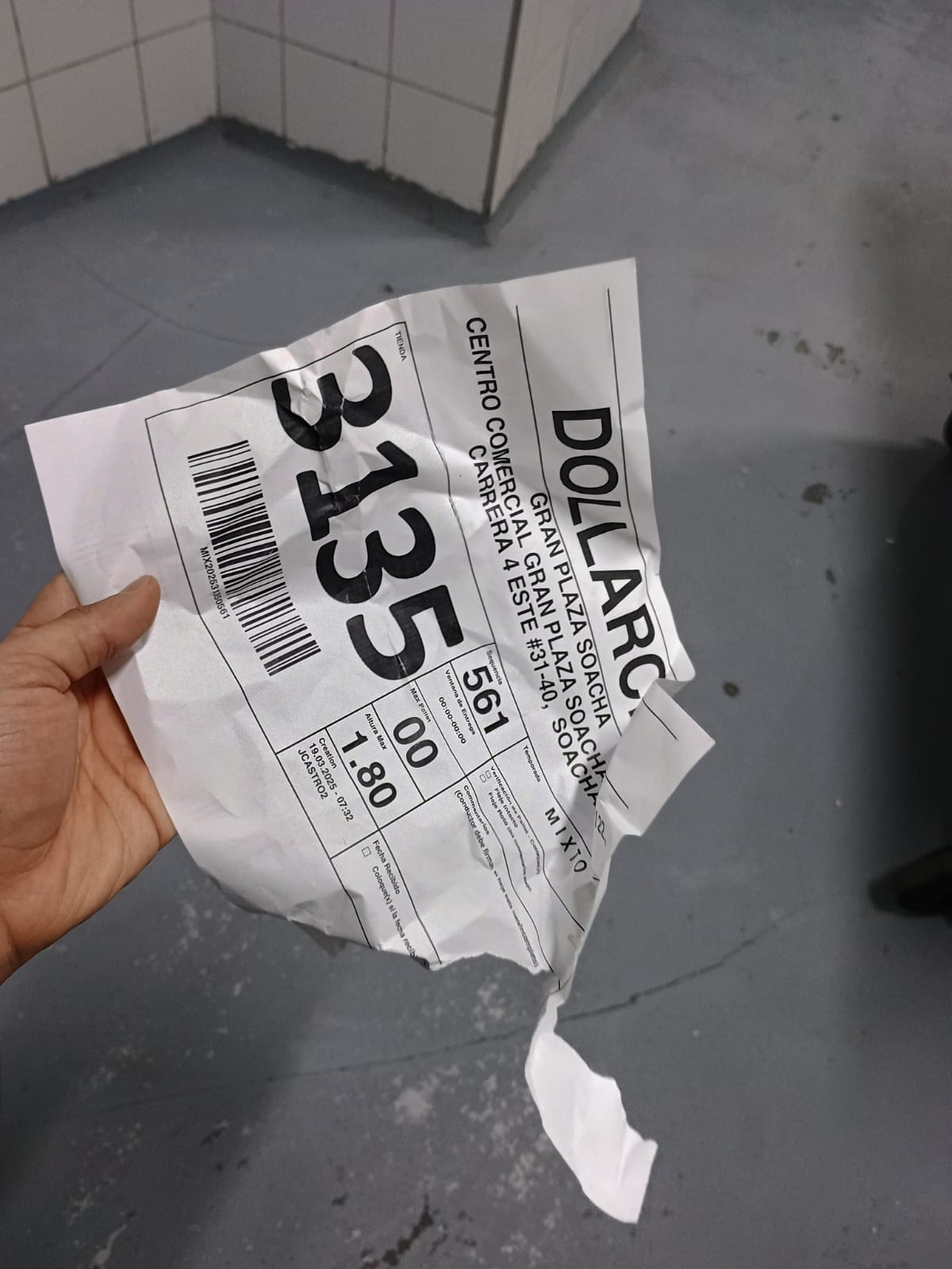Papel: (19, 257, 719, 1232)
